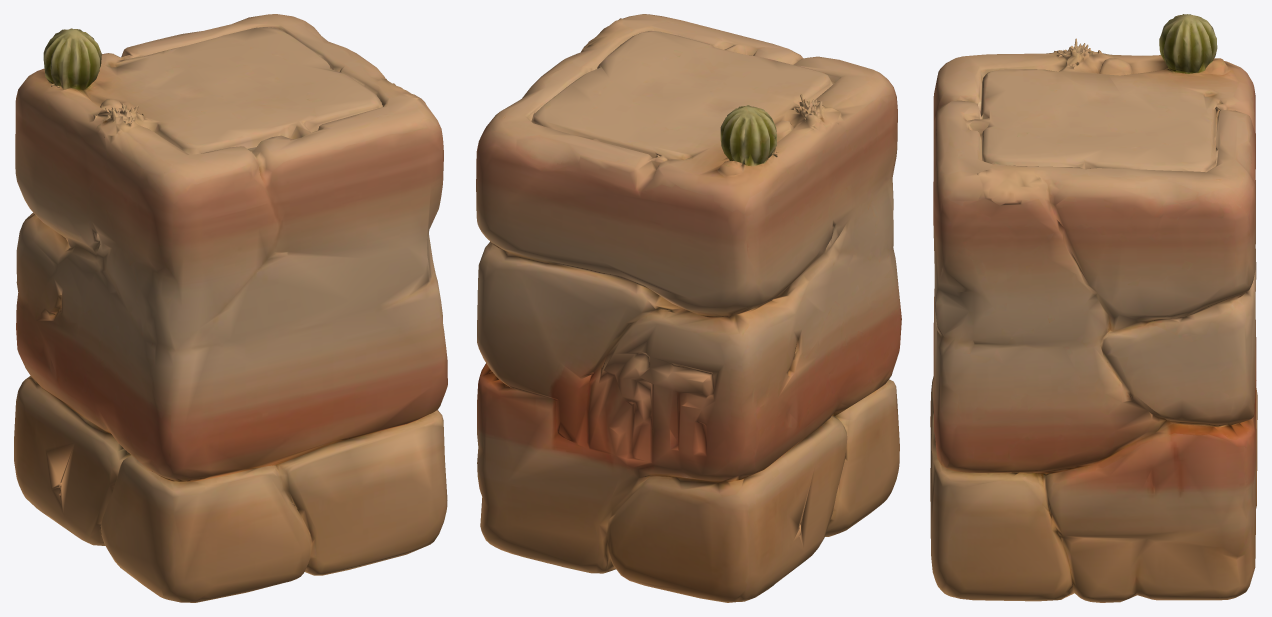
3 renders of one model, left to right at view 1: azimuth 30°, elevation 25°; view 2: azimuth 150°, elevation 25°; view 3: azimuth 270°, elevation 25°, orthographic. The views are drawn at different scales.
Parts seen in each view (by area): view 1: world; view 2: world; view 3: world.
Part boxes in pixels (<box>): world: <box>14,14,447,602</box>; world: <box>476,14,901,602</box>; world: <box>930,14,1257,602</box>.
Size of the model in its own units: 0.6229 by 1 by 0.6255.
Materials: 1 (1 with a texture image).
